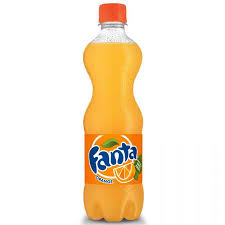fanta_bottle: (84, 2, 145, 222)
